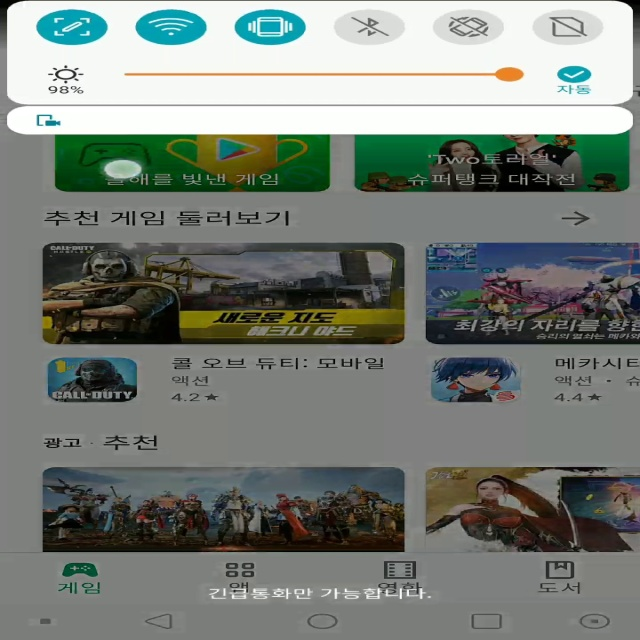Cursor: (102, 159, 146, 181)
